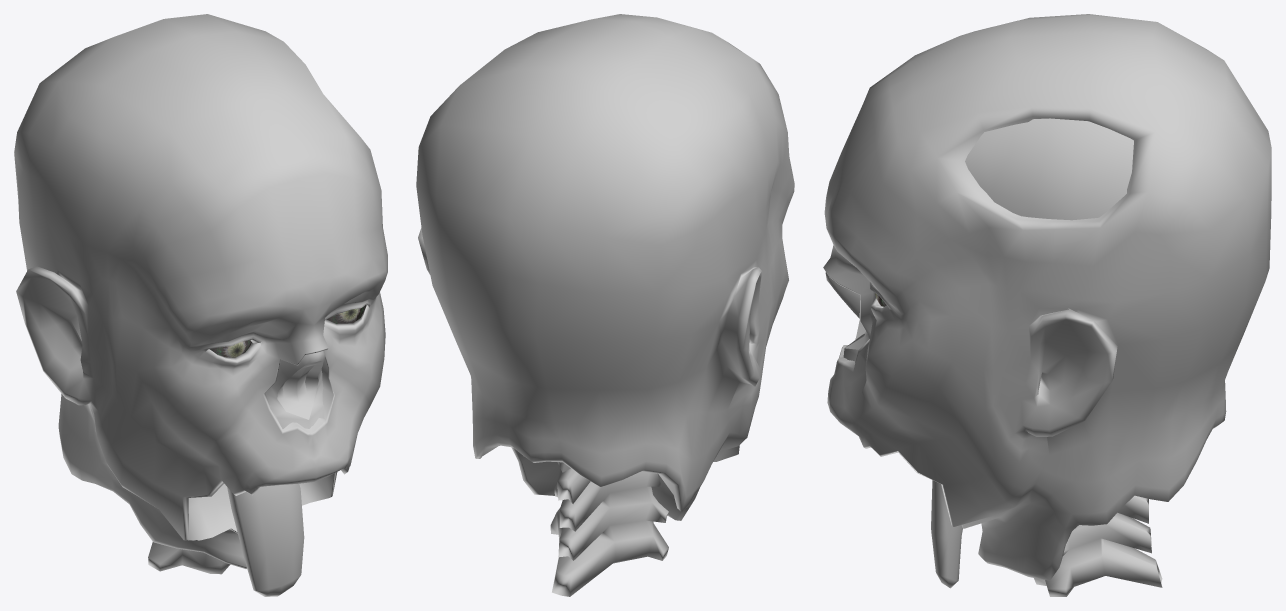
The model's file is Head_05_01.fbx.
3 views of the same model, side by side, from view 1: azimuth 30°, elevation 25°; view 2: azimuth 150°, elevation 25°; view 3: azimuth 270°, elevation 25° (orthographic). The views are drawn at different scales.
Parts seen in each view (by area): view 1: Head_05_01, Tongue; view 2: Head_05_01; view 3: Head_05_01, Tongue.
Boxes of the visible parts, x1=… form: Head_05_01: x1=14, y1=14, x2=387, y2=574; Tongue: x1=227, y1=483, x2=304, y2=596; Head_05_01: x1=416, y1=14, x2=794, y2=596; Head_05_01: x1=823, y1=14, x2=1271, y2=596; Tongue: x1=931, y1=480, x2=962, y2=588.
Size of the model in its own units: 17.79 by 27.28 by 19.98.
